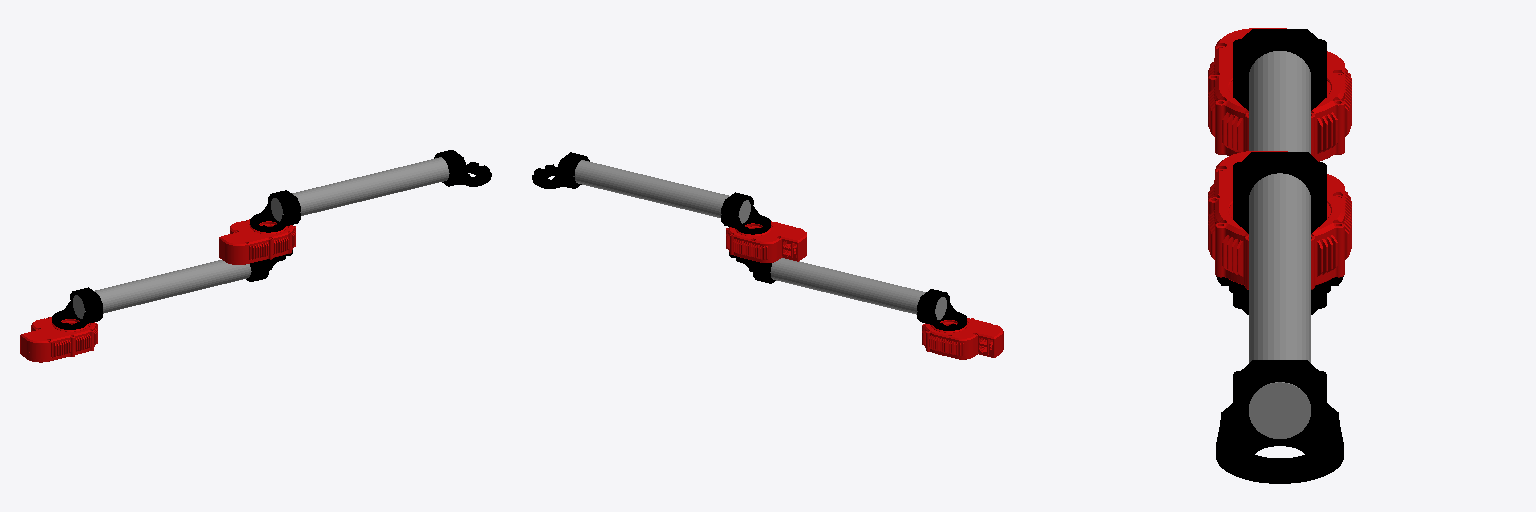
robot.urdf — 2_dof_arm:
<?xml version="1.0" ?>
<!-- =================================================================================== -->
<!-- |    This document was autogenerated by xacro from 2_dof_arm.xacro                | -->
<!-- |    EDITING THIS FILE BY HAND IS NOT RECOMMENDED                                 | -->
<!-- =================================================================================== -->
<robot name="2_dof_arm" xmlns:xacro="http://www.ros.org/wiki/xacro">
  <!-- *************************** XACRO MACROS *************************** -->
  <!-- ************************* ROBOT DEFINITION ************************* -->
  <!-- world link -->
  <link name="world"/>
  <joint name="world_joint" type="fixed">
    <origin rpy="0 0 0" xyz="0 0 0"/>
    <parent link="world"/>
    <child link="HEBI/joint1/INPUT_INTERFACE"/>
  </joint>
  <link name="HEBI/joint1/INPUT_INTERFACE">
    <visual>
      <origin rpy="0 0 0" xyz="0 0 0"/>
      <geometry>
        <mesh filename="package://hebiros_description/meshes/x5.stl" scale="0.001 0.001 0.001"/>
      </geometry>
      <material name="red">
        <color rgba=".82 0.06 0.06 1"/>
      </material>
    </visual>
    <collision>
      <origin rpy="0 0 0" xyz="0 0 0"/>
      <geometry>
        <mesh filename="package://hebiros_description/meshes/x5.stl" scale="0.001 0.001 0.001"/>
      </geometry>
    </collision>
    <inertial>
      <origin rpy="0 0 0" xyz="-0.0142 -0.0031 0.0165"/>
      <mass value="0.335"/>
      <inertia ixx="0.00015" ixy="0.0000341" ixz="0.0000118" iyy="0.000255" iyz="0.00000229" izz="0.000350"/>
    </inertial>
  </link>
  <joint name="HEBI/joint1/X5_4" type="continuous">
    <parent link="HEBI/joint1/INPUT_INTERFACE"/>
    <child link="joint1_joint2/INPUT_INTERFACE"/>
    <origin rpy="0 0 0" xyz="0 0 0.031"/>
    <axis xyz="0 0 1"/>
    <limit effort="7.0" velocity="32"/>
    <dynamics damping="0.1" friction="0.1"/>
  </joint>
  <gazebo reference="HEBI/joint1/INPUT_INTERFACE">
    <selfCollide>true</selfCollide>
    <gravity>true</gravity>
    <sensor name="HEBI/joint1/imu_sensor" type="imu">
      <always_on>true</always_on>
      <update_rate>100</update_rate>
      <visualize>true</visualize>
      <plugin filename="libgazebo_ros_imu_sensor.so" name="imu_plugin">
        <topicName>/hebiros_gazebo_plugin/imu/HEBI/joint1</topicName>
        <bodyName>HEBI/joint1/imu_link</bodyName>
        <updateRateHZ>10.0</updateRateHZ>
        <gaussianNoise>0.0</gaussianNoise>
        <xyzOffset>0.025 0 0.003</xyzOffset>
        <rpyOffset>0 0 0</rpyOffset>
        <frameName>HEBI/joint1/imu_link</frameName>
      </plugin>
      <pose>0 0 0 0 0 0</pose>
    </sensor>
    <material>Gazebo/BlueGlow</material>
  </gazebo>
  <link name="joint1_joint2/INPUT_INTERFACE">
    <visual>
      <origin rpy="0 0 0" xyz="0 0 0"/>
      <geometry>
        <mesh filename="package://hebiros_description/meshes/A-2038-02.stl"/>
      </geometry>
      <material name="black">
        <color rgba="0 0 0 1"/>
      </material>
    </visual>
    <visual>
      <origin rpy="0 1.57075 0" xyz="0.15 0 0.02"/>
      <geometry>
        <cylinder length="0.2746" radius=".016"/>
      </geometry>
      <material name="silver">
        <color rgba="0.6 0.6 0.6 1"/>
      </material>
    </visual>
    <visual>
      <origin rpy="0 0 0" xyz="0.3 0.0 0.04"/>
      <geometry>
        <mesh filename="package://hebiros_description/meshes/A-2039-02.stl"/>
      </geometry>
      <material name="black">
        <color rgba="0 0 0 1"/>
      </material>
    </visual>
    <collision>
      <origin rpy="0 0 0" xyz="0 0 0"/>
      <geometry>
        <mesh filename="package://hebiros_description/meshes/A-2038-02.stl"/>
      </geometry>
    </collision>
    <collision>
      <origin rpy="0 1.57075 0" xyz="0.15 0 0.02"/>
      <geometry>
        <cylinder length="0.2746" radius=".016"/>
      </geometry>
    </collision>
    <collision>
      <origin rpy="0 0 0" xyz="0.3 0.0 0.04"/>
      <geometry>
        <mesh filename="package://hebiros_description/meshes/A-2039-02.stl"/>
      </geometry>
    </collision>
    <!-- Approximate inertia as thin rod about x axis -->
    <inertial>
      <origin rpy="0 0 0" xyz="0.15 0 0.02"/>
      <mass value="0.392"/>
      <inertia ixx="0.0" ixy="0.0" ixz="0.0" iyy="0.00294" iyz="0.0" izz="0.00294"/>
    </inertial>
  </link>
  <joint name="joint1_joint2/OUTPUT_JOINT" type="fixed">
    <parent link="joint1_joint2/INPUT_INTERFACE"/>
    <child link="HEBI/joint2/INPUT_INTERFACE"/>
    <origin rpy="0 0 0" xyz="0.3 -0.0 0.04"/>
  </joint>
  <gazebo reference="joint1_joint2/INPUT_INTERFACE">
    <selfCollide>true</selfCollide>
    <material>Gazebo/FlatBlack</material>
  </gazebo>
  <link name="HEBI/joint2/INPUT_INTERFACE">
    <visual>
      <origin rpy="0 0 0" xyz="0 0 0"/>
      <geometry>
        <mesh filename="package://hebiros_description/meshes/x5.stl" scale="0.001 0.001 0.001"/>
      </geometry>
      <material name="red">
        <color rgba=".82 0.06 0.06 1"/>
      </material>
    </visual>
    <collision>
      <origin rpy="0 0 0" xyz="0 0 0"/>
      <geometry>
        <mesh filename="package://hebiros_description/meshes/x5.stl" scale="0.001 0.001 0.001"/>
      </geometry>
    </collision>
    <inertial>
      <origin rpy="0 0 0" xyz="-0.0142 -0.0031 0.0165"/>
      <mass value="0.335"/>
      <inertia ixx="0.00015" ixy="0.0000341" ixz="0.0000118" iyy="0.000255" iyz="0.00000229" izz="0.000350"/>
    </inertial>
  </link>
  <joint name="HEBI/joint2/X5_4" type="continuous">
    <parent link="HEBI/joint2/INPUT_INTERFACE"/>
    <child link="joint2_end/INPUT_INTERFACE"/>
    <origin rpy="0 0 0" xyz="0 0 0.031"/>
    <axis xyz="0 0 1"/>
    <limit effort="7.0" velocity="32"/>
    <dynamics damping="0.1" friction="0.1"/>
  </joint>
  <gazebo reference="HEBI/joint2/INPUT_INTERFACE">
    <selfCollide>true</selfCollide>
    <gravity>true</gravity>
    <sensor name="HEBI/joint2/imu_sensor" type="imu">
      <always_on>true</always_on>
      <update_rate>100</update_rate>
      <visualize>true</visualize>
      <plugin filename="libgazebo_ros_imu_sensor.so" name="imu_plugin">
        <topicName>/hebiros_gazebo_plugin/imu/HEBI/joint2</topicName>
        <bodyName>HEBI/joint2/imu_link</bodyName>
        <updateRateHZ>10.0</updateRateHZ>
        <gaussianNoise>0.0</gaussianNoise>
        <xyzOffset>0.025 0 0.003</xyzOffset>
        <rpyOffset>0 0 0</rpyOffset>
        <frameName>HEBI/joint2/imu_link</frameName>
      </plugin>
      <pose>0 0 0 0 0 0</pose>
    </sensor>
    <material>Gazebo/BlueGlow</material>
  </gazebo>
  <link name="joint2_end/INPUT_INTERFACE">
    <visual>
      <origin rpy="0 0 0" xyz="0 0 0"/>
      <geometry>
        <mesh filename="package://hebiros_description/meshes/A-2038-02.stl"/>
      </geometry>
      <material name="black">
        <color rgba="0 0 0 1"/>
      </material>
    </visual>
    <visual>
      <origin rpy="0 1.57075 0" xyz="0.15 0 0.02"/>
      <geometry>
        <cylinder length="0.2746" radius=".016"/>
      </geometry>
      <material name="silver">
        <color rgba="0.6 0.6 0.6 1"/>
      </material>
    </visual>
    <visual>
      <origin rpy="-3.14159265359 0 0" xyz="0.3 -2.44929359829e-18 0.0"/>
      <geometry>
        <mesh filename="package://hebiros_description/meshes/A-2039-02.stl"/>
      </geometry>
      <material name="black">
        <color rgba="0 0 0 1"/>
      </material>
    </visual>
    <collision>
      <origin rpy="0 0 0" xyz="0 0 0"/>
      <geometry>
        <mesh filename="package://hebiros_description/meshes/A-2038-02.stl"/>
      </geometry>
    </collision>
    <collision>
      <origin rpy="0 1.57075 0" xyz="0.15 0 0.02"/>
      <geometry>
        <cylinder length="0.2746" radius=".016"/>
      </geometry>
    </collision>
    <collision>
      <origin rpy="-3.14159265359 0 0" xyz="0.3 -2.44929359829e-18 0.0"/>
      <geometry>
        <mesh filename="package://hebiros_description/meshes/A-2039-02.stl"/>
      </geometry>
    </collision>
    <!-- Approximate inertia as thin rod about x axis -->
    <inertial>
      <origin rpy="0 0 0" xyz="0.15 0 0.02"/>
      <mass value="0.392"/>
      <inertia ixx="0.0" ixy="0.0" ixz="0.0" iyy="0.00294" iyz="0.0" izz="0.00294"/>
    </inertial>
  </link>
  <joint name="joint2_end/OUTPUT_JOINT" type="fixed">
    <parent link="joint2_end/INPUT_INTERFACE"/>
    <child link="end_effector/INPUT_INTERFACE"/>
    <origin rpy="3.14159265359 0 0" xyz="0.3 -2.44929359829e-18 0.0"/>
  </joint>
  <gazebo reference="joint2_end/INPUT_INTERFACE">
    <selfCollide>true</selfCollide>
    <material>Gazebo/FlatBlack</material>
  </gazebo>
  <!-- end link -->
  <link name="end_effector/INPUT_INTERFACE">
  </link>
  <gazebo>
    <plugin filename="libhebiros_gazebo_plugin.so" name="hebiros_gazebo_plugin">
    </plugin>
  </gazebo>
</robot>

--- What the picture shows (computed from the rendered views, not written in the file) ---
Views: 3 orthographic renders of the robot side by side, from view 1: azimuth 30°, elevation 25°; view 2: azimuth 150°, elevation 25°; view 3: azimuth 270°, elevation 25°.
Robot: 2_dof_arm — 6 links, 5 joints (2 continuous, 3 fixed); root link world; default pose: every joint at zero.
Visible links, largest first — view 1: joint2_end/INPUT_INTERFACE, joint1_joint2/INPUT_INTERFACE, HEBI/joint1/INPUT_INTERFACE, HEBI/joint2/INPUT_INTERFACE; view 2: joint2_end/INPUT_INTERFACE, joint1_joint2/INPUT_INTERFACE, HEBI/joint1/INPUT_INTERFACE, HEBI/joint2/INPUT_INTERFACE; view 3: joint2_end/INPUT_INTERFACE, joint1_joint2/INPUT_INTERFACE, HEBI/joint2/INPUT_INTERFACE, HEBI/joint1/INPUT_INTERFACE.
Link boxes in pixels (box(x1,y1,x2,y2)): joint2_end/INPUT_INTERFACE: box(250, 150, 491, 232); joint1_joint2/INPUT_INTERFACE: box(52, 250, 292, 329); HEBI/joint1/INPUT_INTERFACE: box(20, 317, 97, 362); HEBI/joint2/INPUT_INTERFACE: box(219, 219, 295, 264); joint2_end/INPUT_INTERFACE: box(532, 152, 770, 234); joint1_joint2/INPUT_INTERFACE: box(729, 252, 966, 330); HEBI/joint1/INPUT_INTERFACE: box(922, 318, 1003, 359); HEBI/joint2/INPUT_INTERFACE: box(726, 221, 806, 262); joint2_end/INPUT_INTERFACE: box(1216, 152, 1343, 483); joint1_joint2/INPUT_INTERFACE: box(1216, 29, 1343, 314); HEBI/joint2/INPUT_INTERFACE: box(1208, 151, 1351, 289); HEBI/joint1/INPUT_INTERFACE: box(1208, 28, 1351, 161).
Bounding box of the posed robot: 0.7056 × 0.073 × 0.1395 m (x, y, z).
Meshes: 3 distinct files referenced, 6 mesh visuals loaded (3 binary STL).